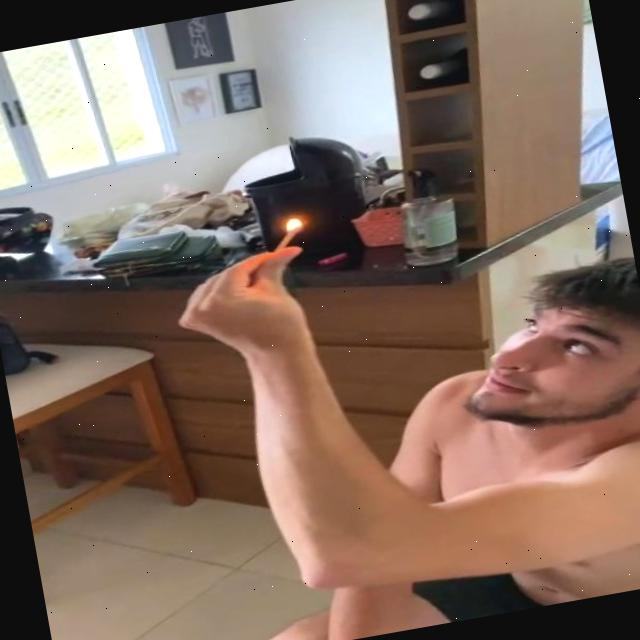fire: (275, 211, 309, 238)
